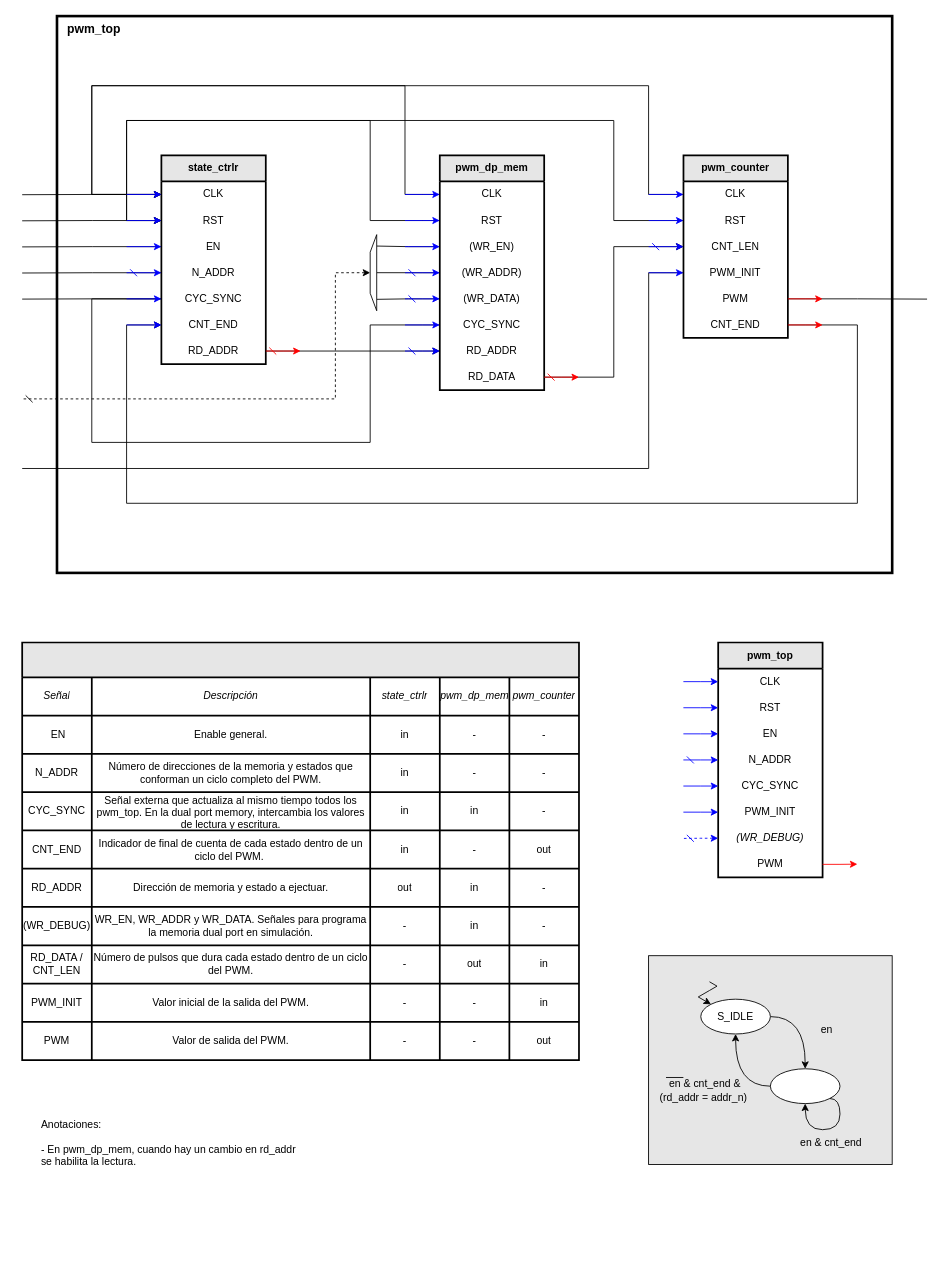
Image size: 944x1275. Some labels were removed from this diagram. The shapes that lost their labels are listed below. From the top down, each one's box as (x1, y1, x2, y2) in pixels, then its label:
(21, 641, 579, 1061): Descripción de las señales
(648, 955, 892, 1164): state_ctrlr - FSM
(770, 1068, 840, 1104): S_NEXT
